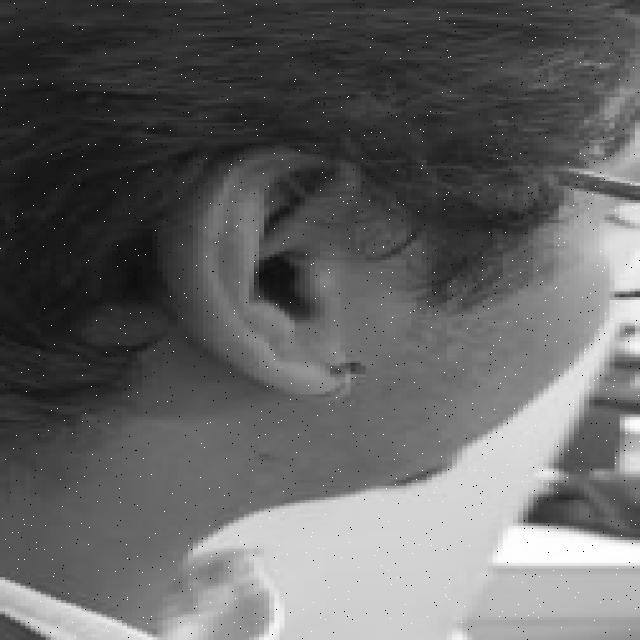ear: (152, 146, 350, 391)
